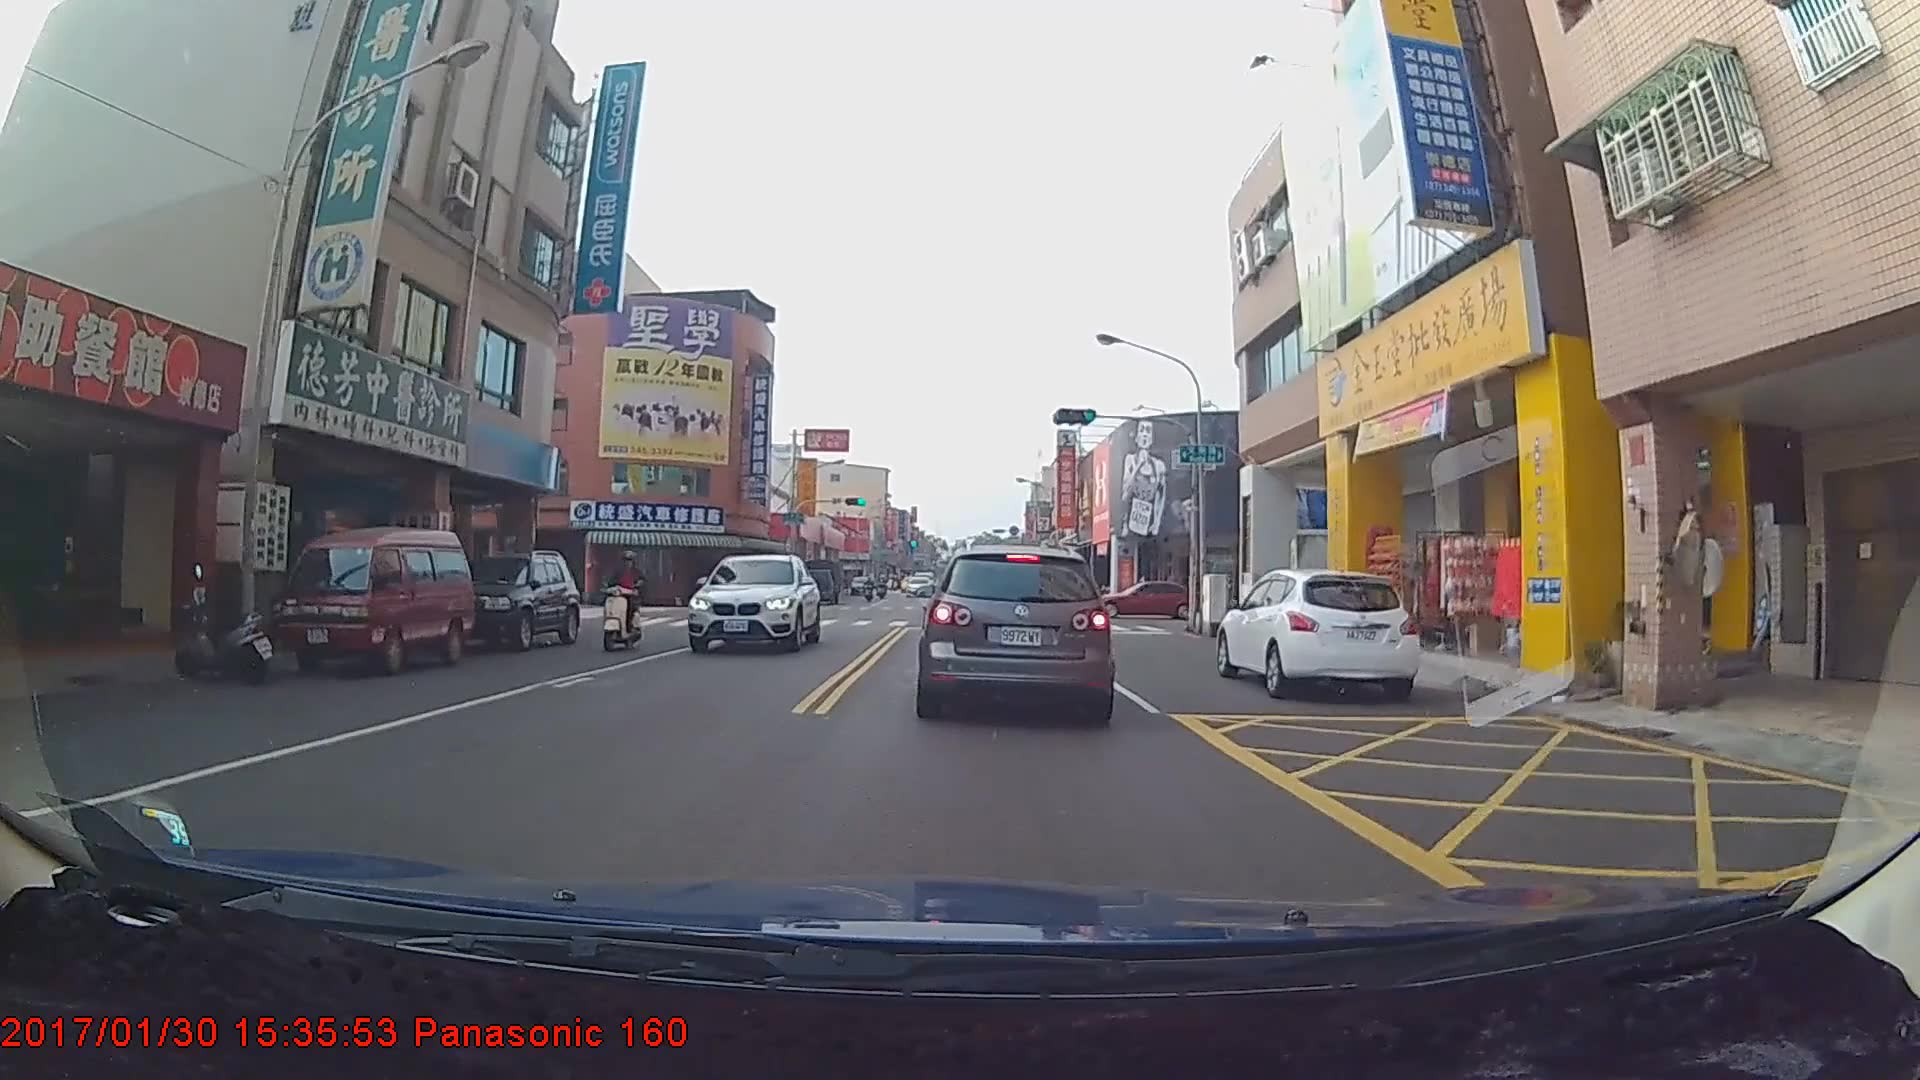rider: (596, 550, 650, 657)
vehicle: (913, 543, 1115, 721), (280, 530, 474, 675), (1216, 565, 1420, 698), (428, 546, 580, 653), (689, 552, 821, 656), (1091, 579, 1199, 618), (791, 555, 843, 604), (904, 576, 933, 597)
